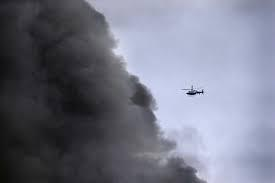smoke: (0, 0, 206, 183)
